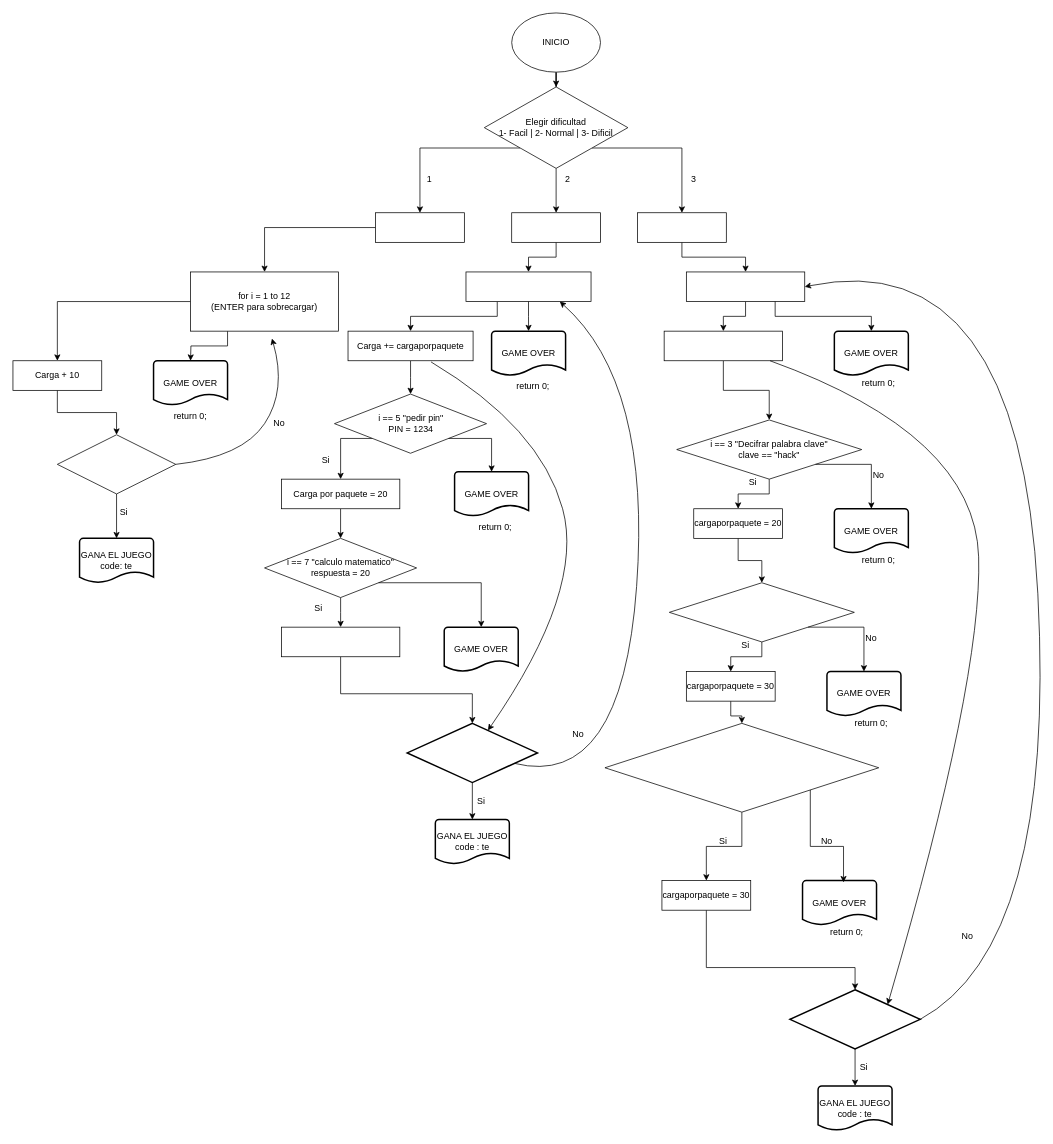
Some shapes in this 1053 by 1144 pixel diagram are drawn without their labels. The shapes that lost their labels are listed below. From the top down, each one's centre as x and y in pixels, then its label:
pixel 419 227: modofacil()
pixel 556 227: modonormal()
pixel 681 227: mododificil()
pixel 528 286: for i = 1 to 10 (ENTER para sobrecargar)
pixel 745 286: for i = 1 to 9 (ENTER para sobrecargar)
pixel 723 345: Cargar += cargaporpaquete
pixel 116 464: carga >= 100
pixel 761 612: i == 5 "Problema matematico" respuesta = 19
pixel 340 641: Carga por paquete = 30
pixel 472 752: Carga = 150
pixel 741 767: i == 7 "Acertijo" pass == ";" || pass == "punto y coma" || pass == punto_y_coma"
pixel 855 1019: Carga = 200
